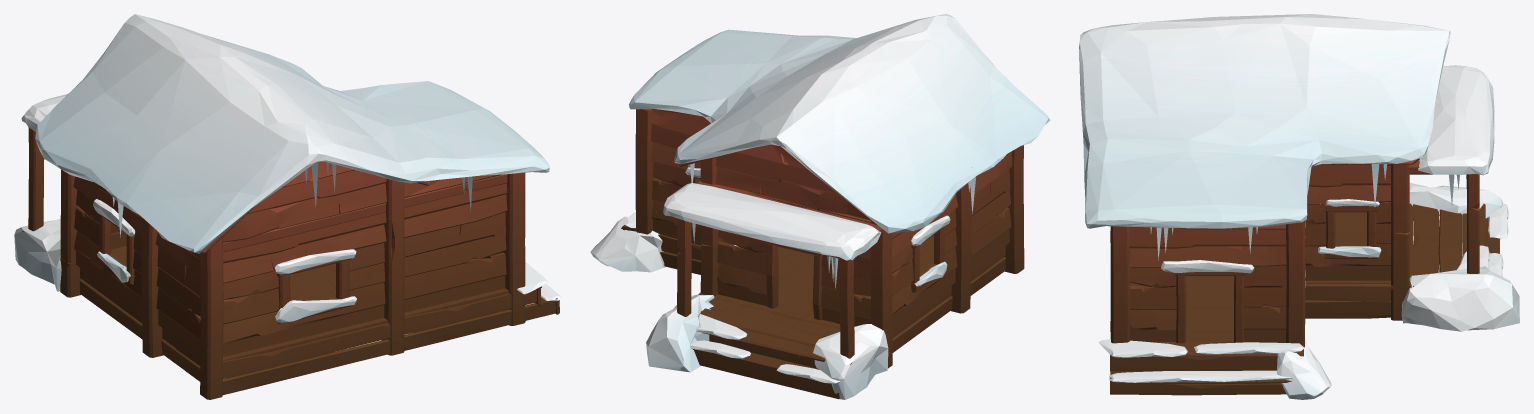
The picture shows the model from 3 angles, left to right: view 1: azimuth 30°, elevation 25°; view 2: azimuth 150°, elevation 25°; view 3: azimuth 270°, elevation 25°; orthographic projection. The views are drawn at different scales.
Parts seen in each view (by area): view 1: SnowyHouse1; view 2: SnowyHouse1; view 3: SnowyHouse1.
Boxes of the visible parts, x1,y1,x2,y2 form: SnowyHouse1: (14, 14, 561, 399); SnowyHouse1: (590, 14, 1050, 399); SnowyHouse1: (1079, 14, 1519, 399).
Size of the model in its own units: 200 by 126 by 195.
1 material, 1 textured.
